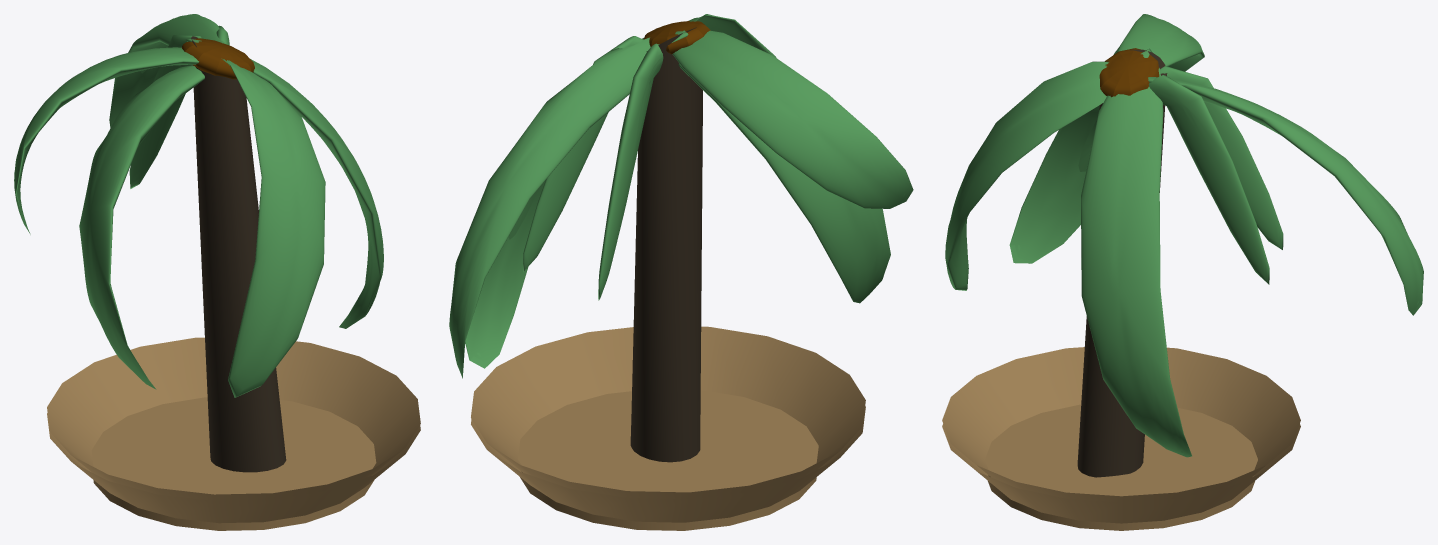
The model's file is Plant1Final.fbx.
3 renders of one model, left to right at view 1: azimuth 30°, elevation 25°; view 2: azimuth 150°, elevation 25°; view 3: azimuth 270°, elevation 25°, orthographic. The views are drawn at different scales.
Parts seen in each view (by area): view 1: pCylinder2, pCylinder1, pSphere7, pSphere11, pCylinder3, pSphere10, pSphere6, pSphere12, pSphere5, pSphere3; view 2: pCylinder2, pCylinder1, pSphere6, pSphere12, pCylinder3, pSphere11, pSphere10, pSphere5, pSphere13, pSphere3, pSphere7; view 3: pCylinder2, pSphere10, pSphere7, pCylinder3, pSphere11, pSphere12, pSphere13, pCylinder1, pSphere5, pSphere6, pSphere3.
Part boxes in pixels (box(x1,y1,x2,y2)): pCylinder2: box(47, 337, 420, 524); pCylinder1: box(191, 36, 286, 472); pSphere7: box(221, 58, 325, 397); pSphere11: box(79, 65, 204, 389); pCylinder3: box(47, 413, 420, 530); pSphere10: box(186, 39, 383, 328); pSphere6: box(14, 47, 198, 234); pSphere12: box(109, 14, 225, 127); pSphere5: box(129, 35, 201, 188); pSphere3: box(182, 38, 254, 79); pCylinder2: box(471, 326, 865, 523); pCylinder1: box(630, 27, 702, 462); pSphere6: box(672, 30, 913, 208); pSphere12: box(449, 37, 650, 378); pCylinder3: box(471, 406, 865, 530); pSphere11: box(678, 63, 890, 303); pSphere10: box(465, 30, 688, 368); pSphere5: box(598, 43, 663, 300); pSphere13: box(523, 36, 643, 271); pSphere3: box(644, 21, 710, 54); pSphere7: box(688, 14, 776, 57); pCylinder2: box(942, 347, 1300, 524); pSphere10: box(1081, 48, 1191, 457); pSphere7: box(945, 61, 1108, 290); pCylinder3: box(942, 424, 1300, 530); pSphere11: box(1009, 105, 1099, 263); pSphere12: box(1148, 77, 1423, 315); pSphere13: box(1148, 75, 1269, 284); pCylinder1: box(1077, 49, 1167, 477); pSphere5: box(1159, 66, 1283, 249); pSphere6: box(1113, 14, 1204, 71); pSphere3: box(1099, 48, 1159, 97).
Size of the model in its own units: 0.6842 by 0.7337 by 0.7749.
